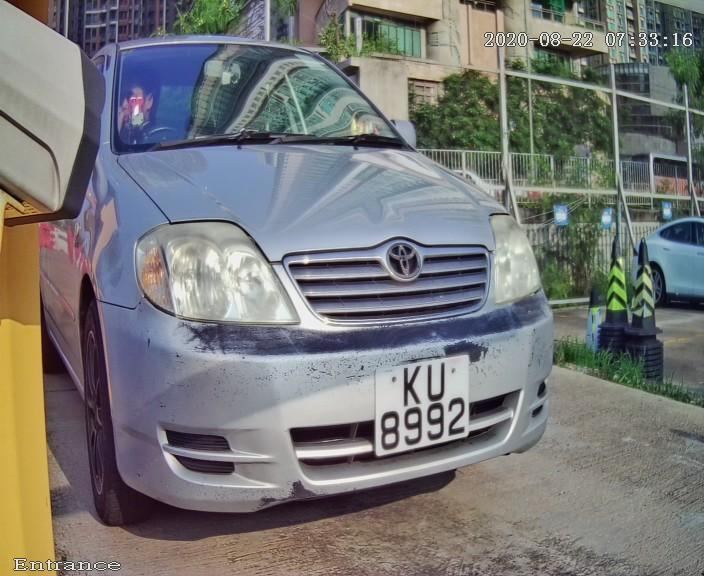Car: (10, 6, 613, 556)
License Plate: (365, 348, 475, 466)
